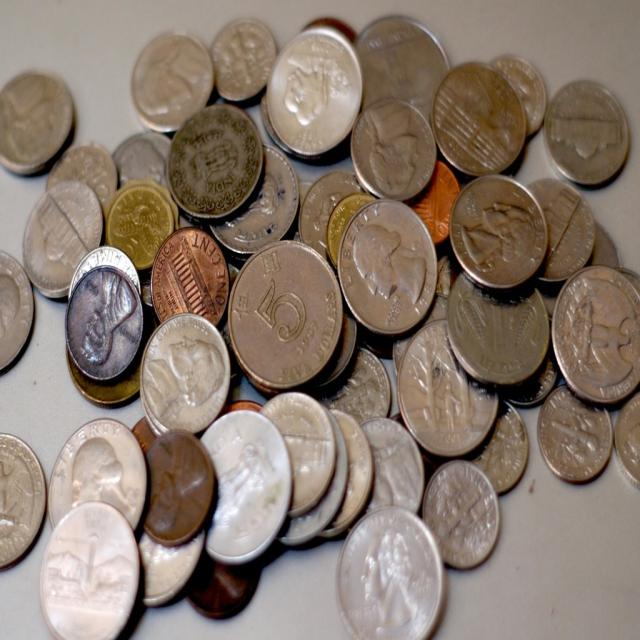Coin: (0, 13, 640, 639), (555, 266, 639, 398)
